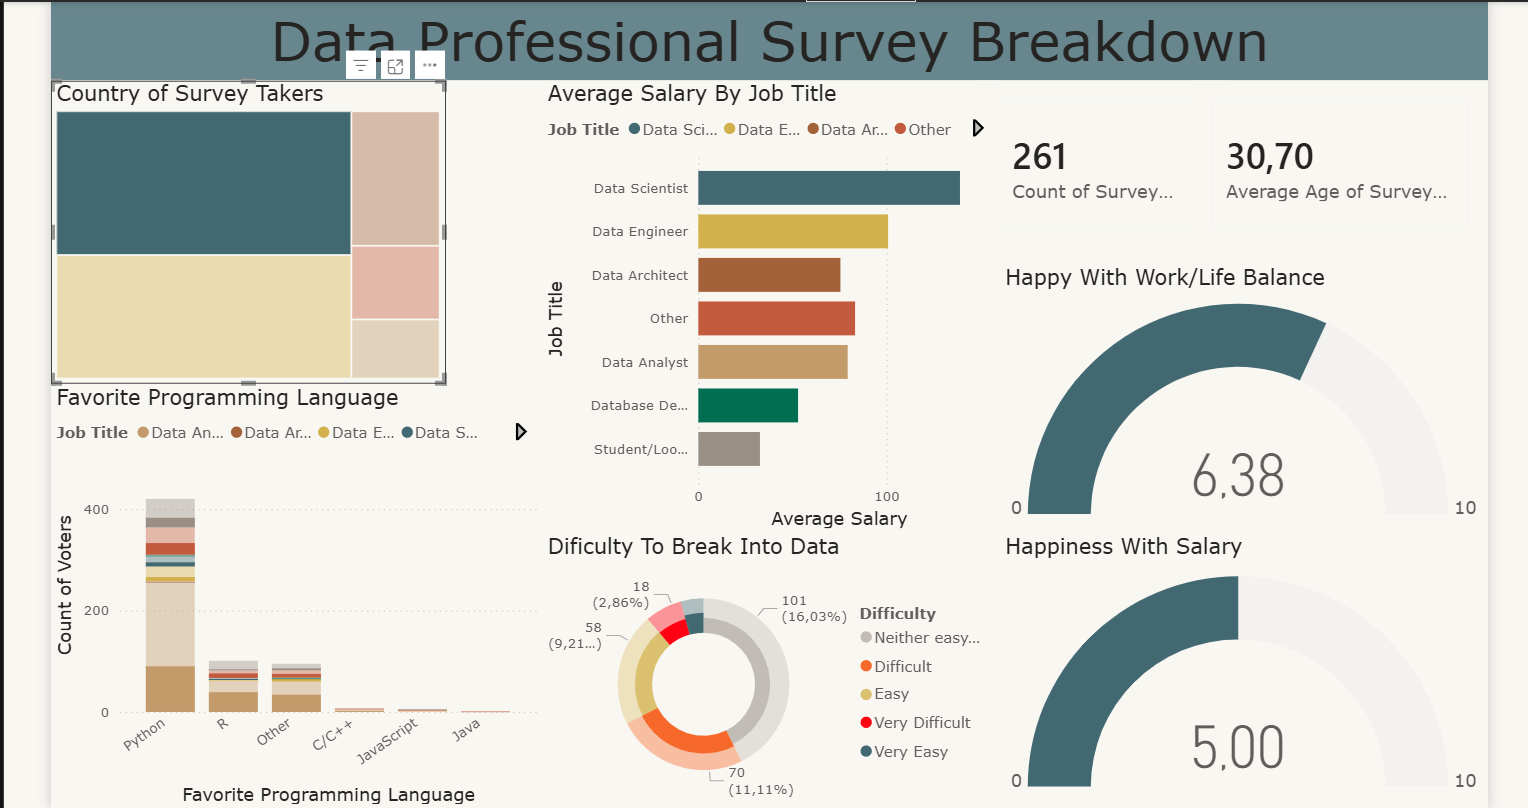

What the dashboard file says about the page in this screenshot:
{"tool":"powerbi","page":{"name":"Page 1","canvas":[1280,720],"ordinal":0},"visuals":[{"type":"textbox","box":[0,0,1280.3,70],"z":0},{"type":"cardVisual","fields":{"Data":["Count(Data Professional Survey.Unique ID)"]},"box":[826.1,70,220.9,149.6],"z":1000},{"type":"cardVisual","fields":{"Data":["Avg(Data Professional Survey.Q10 - Current Age)"]},"box":[1016.8,70,263.5,149.6],"z":2000},{"type":"barChart","title":"Average Salary By Job Title","fields":{"Category":["Data Professional Survey.Q1 - Which Title Best Fits your Current Role?.1"],"Y":["Avg(Data Professional Survey.Average Salary)"],"Series":["Data Professional Survey.Q1 - Which Title Best Fits your Current Role?.1"]},"box":[437.7,70,407.5,403.4],"z":3000},{"type":"columnChart","title":"Favorite Programming Language","fields":{"Category":["Data Professional Survey.Q5 - Favorite Programming Language.1"],"Y":["CountNonNull(Data Professional Survey.Unique ID)"],"Series":["Data Professional Survey.Q1 - Which Title Best Fits your Current Role?.1"]},"box":[0,340.3,437.7,378.7],"z":4000},{"type":"treemap","title":"Country of Survey Takers","fields":{"Group":["Data Professional Survey.Q11 - Which Country do you live in?.1"],"Values":["CountNonNull(Data Professional Survey.Q11 - Which Country do you live in?.1)"]},"box":[0,70,351.3,270.3],"z":5000},{"type":"gauge","title":"Happy With Work/Life Balance","fields":{"Y":["Avg(Data Professional Survey.Q6 - How Happy are you in your Current Position with the following? (Work/Life Balance))"],"MinValue":["Min(Data Professional Survey.Q6 - How Happy are you in your Current Position with the following? (Work/Life Balance))1"],"MaxValue":["Max(Data Professional Survey.Q6 - How Happy are you in your Current Position with the following? (Work/Life Balance))2"]},"box":[845.3,233.3,435,240.1],"z":6000},{"type":"gauge","title":"Happiness With Salary","fields":{"Y":["Avg(Data Professional Survey.Q6 - How Happy are you in your Current Position with the following? (Salary))"],"MinValue":["Min(Data Professional Survey.Q6 - How Happy are you in your Current Position with the following? (Salary))"],"MaxValue":["Max(Data Professional Survey.Q6 - How Happy are you in your Current Position with the following? (Salary))"]},"box":[845.3,473.4,435,247],"z":7000},{"type":"donutChart","title":"Dificulty To Break Into Data","fields":{"Category":["Data Professional Survey.Q7 - How difficult was it for you to break into Data?"],"Y":["CountNonNull(Data Professional Survey.Q7 - How difficult was it for you to break into Data?)"]},"box":[437.7,473.4,407.5,247],"z":8000}]}

Visuals, with their boxes in screenshot pixels (x1, y1, x2, y2):
textbox: 0, 0, 1469, 80
cardVisual - Count(Data Professional Survey.Unique ID): 948, 80, 1201, 252
cardVisual - Avg(Data Professional Survey.Q10 - Current Age): 1166, 80, 1469, 252
"Average Salary By Job Title" barChart: 502, 80, 969, 543
"Favorite Programming Language" columnChart: 0, 390, 502, 807
"Country of Survey Takers" treemap: 0, 80, 403, 390
"Happy With Work/Life Balance" gauge: 970, 268, 1469, 543
"Happiness With Salary" gauge: 970, 543, 1469, 807
"Dificulty To Break Into Data" donutChart: 502, 543, 969, 807
